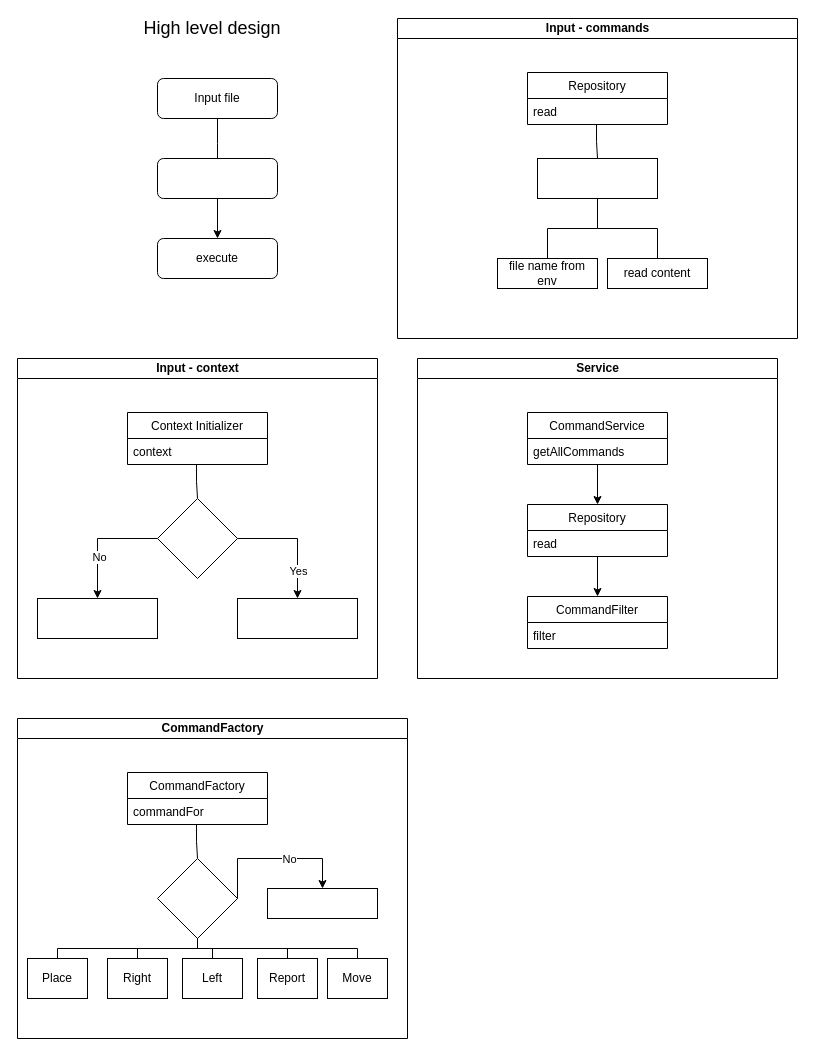
Image size: 815x1056. Some labels were removed from this diagram. The centre of each missing label's shape, as x and y in pixels:
Command: (217,178)
command found: (197,898)
default: (97,618)
Exception: (322,903)
FileRepository: (597,178)
found in env: (197,538)
read from env: (297,618)
